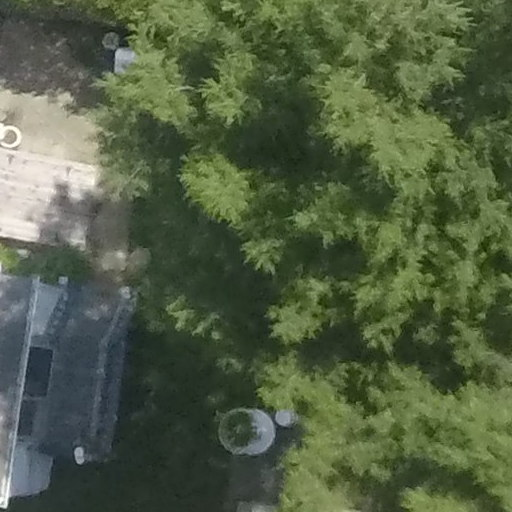container: (1, 120, 21, 146)
